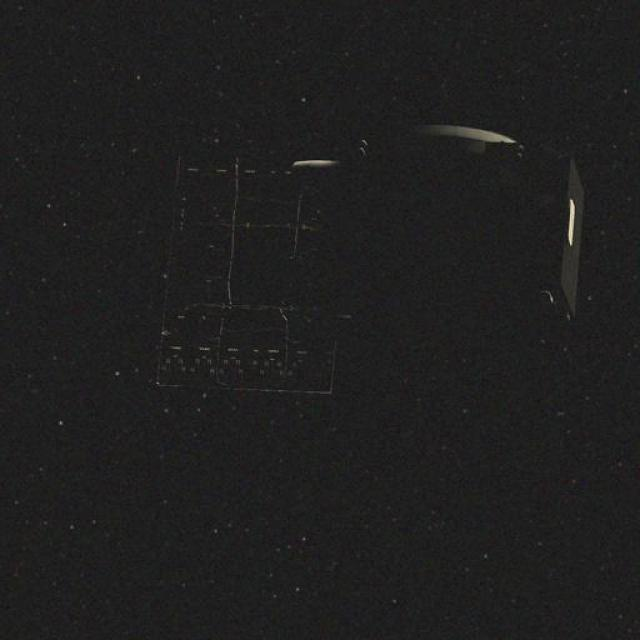proba_3_csc: (148, 118, 600, 414)
